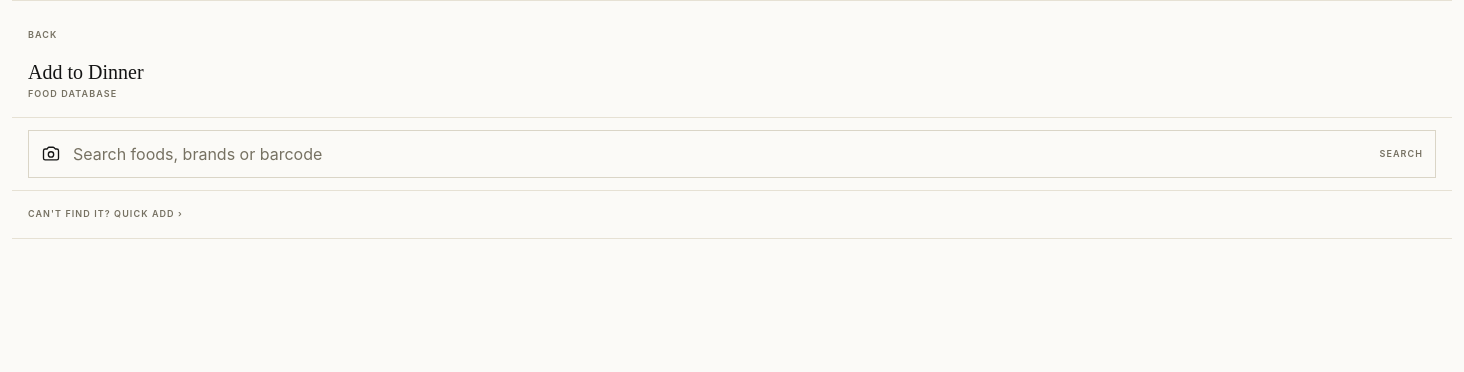
Test case: FoodPicker › keeps the incomplete-result warning qualitative when figures are hidden
Type "skyr" into the search field at (720, 154), box [73,142,1368,166]
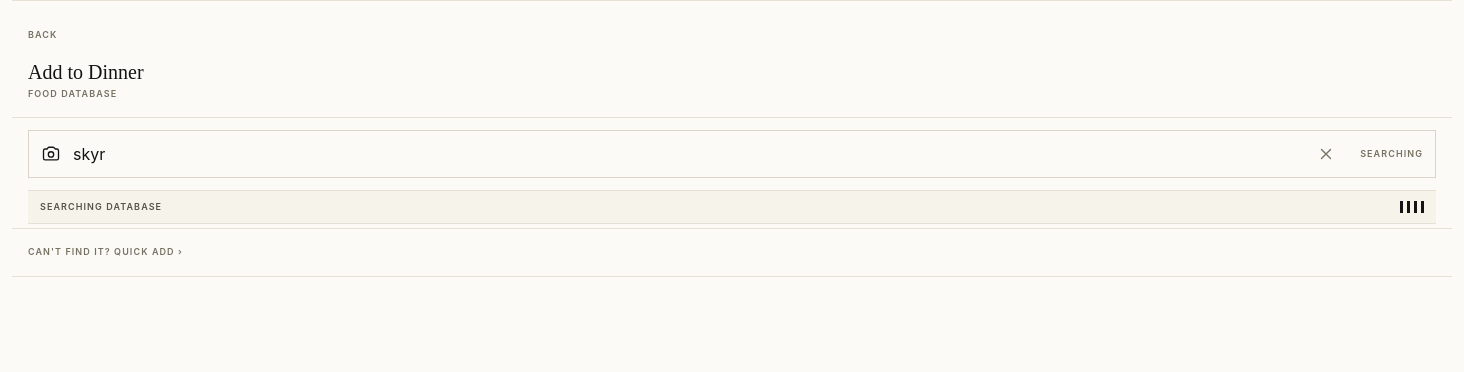
Press Enter in the search field, box [73,142,1304,166]
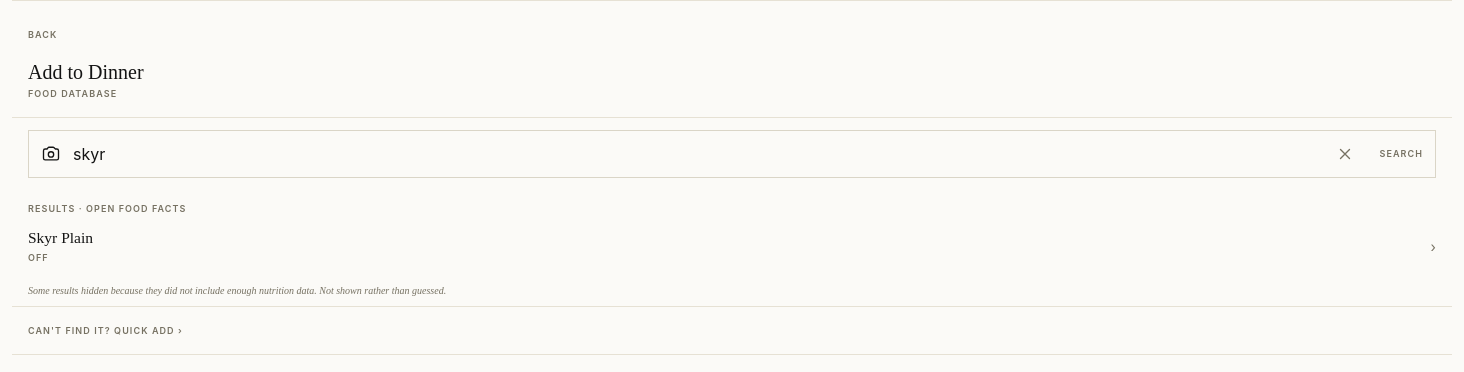
Expected: the text "Some results hidden because they did not include enough nutrition data" is shown, [28,285,446,296]
